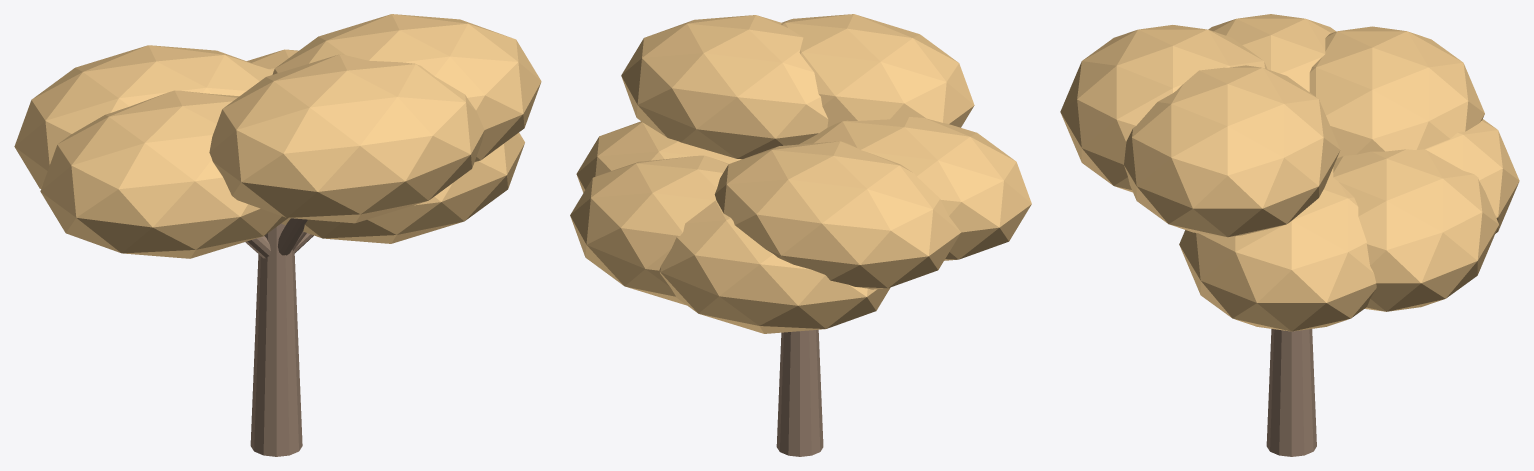
File: maple.glb
The picture shows the model from 3 angles, left to right: view 1: azimuth 30°, elevation 25°; view 2: azimuth 150°, elevation 25°; view 3: azimuth 270°, elevation 25°; orthographic projection. The views are drawn at different scales.
Visible parts, largest first — view 1: maple_006, maple_010, maple_012, maple_004, maple_000, maple_002, maple_005, maple_008; view 2: maple_004, maple_012, maple_014, maple_006, maple_010, maple_008, maple_000, maple_002; view 3: maple_012, maple_002, maple_008, maple_004, maple_006, maple_000, maple_010, maple_014.
Boxes of the visible parts, x1,y1,x2,y2 form: maple_006: (209,54,484,223); maple_010: (40,90,287,258); maple_012: (272,14,541,161); maple_004: (14,45,273,188); maple_000: (250,223,302,456); maple_002: (281,132,524,243); maple_005: (278,218,307,255); maple_008: (247,49,298,71); maple_004: (714,141,960,289); maple_012: (621,15,828,159); maple_014: (659,200,890,333); maple_006: (781,14,974,127); maple_010: (799,117,1031,260); maple_008: (570,155,728,305); maple_000: (776,329,823,456); maple_002: (576,121,741,192); maple_012: (1124,65,1340,237); maple_002: (1179,167,1376,331); maple_008: (1333,149,1498,311); maple_004: (1309,26,1484,158); maple_006: (1060,25,1267,192); maple_000: (1266,329,1316,456); maple_010: (1208,14,1335,91); maple_014: (1425,119,1519,233).
Size of the model in its own units: 3.88 by 3.37 by 3.47.
